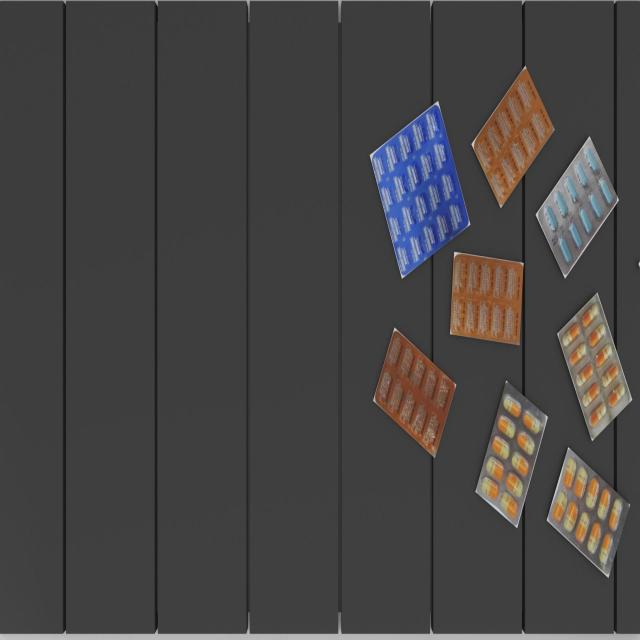blister: (366, 102, 471, 281), (468, 60, 555, 211), (536, 133, 621, 280), (470, 377, 548, 533), (555, 289, 633, 444), (366, 331, 459, 459), (545, 445, 630, 580), (448, 247, 525, 347)
